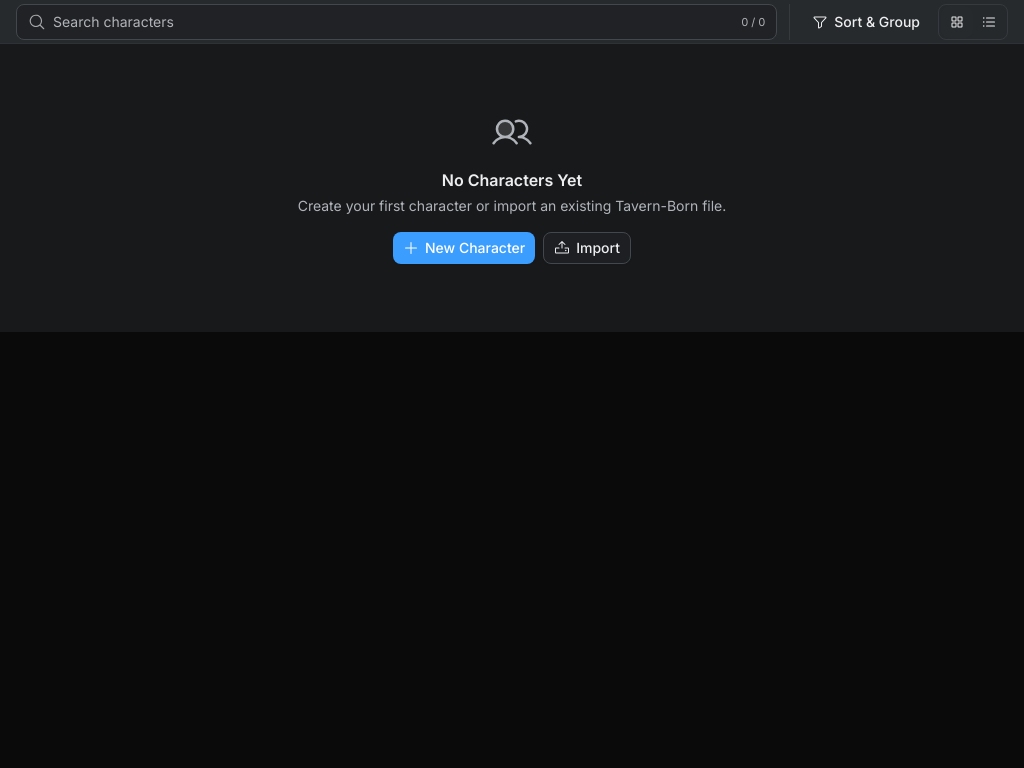
Test: home page integration workflows › reports a failed batch write without claiming an import succeeded
What coordinates should you click on to do the following:
click the button "Import"
I would click on:
 (587, 248)
Its box is [543, 232, 631, 264].
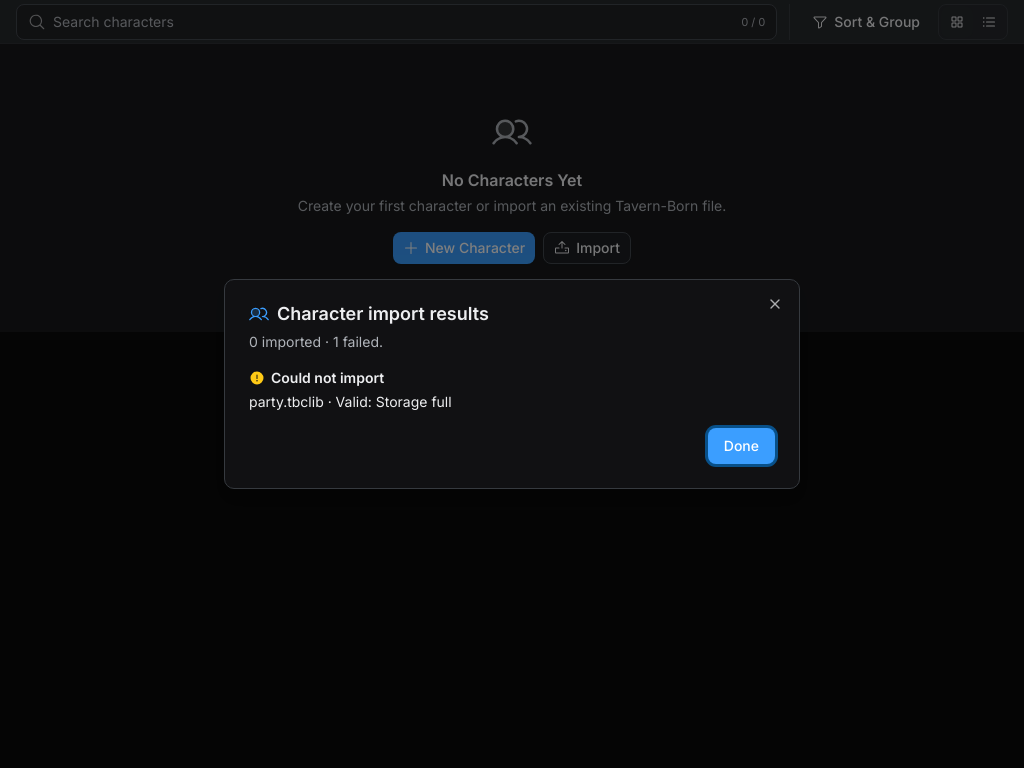
Expected: the text "0 imported · 1 failed." is shown, [249, 333, 383, 350]
Expected: the list item "party.tbclib · Valid: Storage full" is shown, [249, 393, 452, 410]
